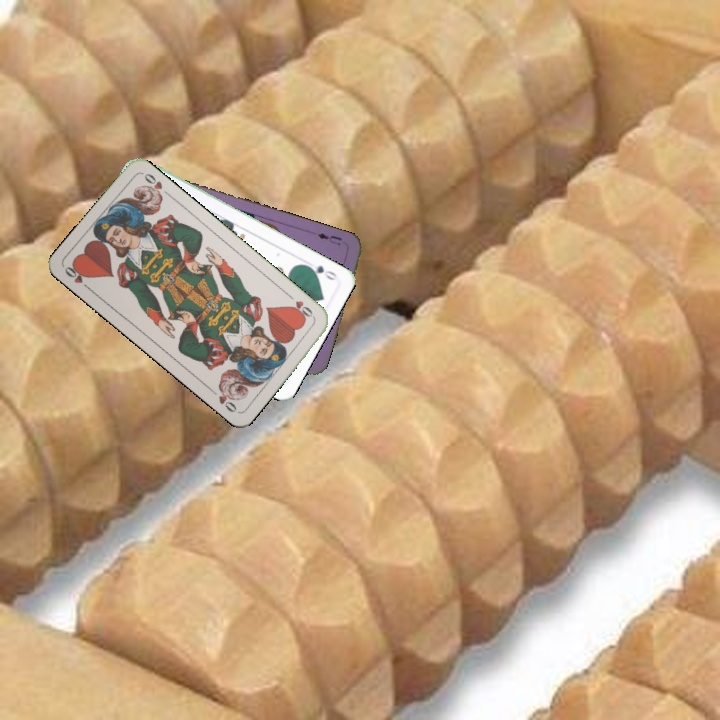EU: (313, 229, 345, 248)
GO: (301, 261, 339, 283)
HO: (60, 260, 94, 294), (284, 290, 318, 322)
